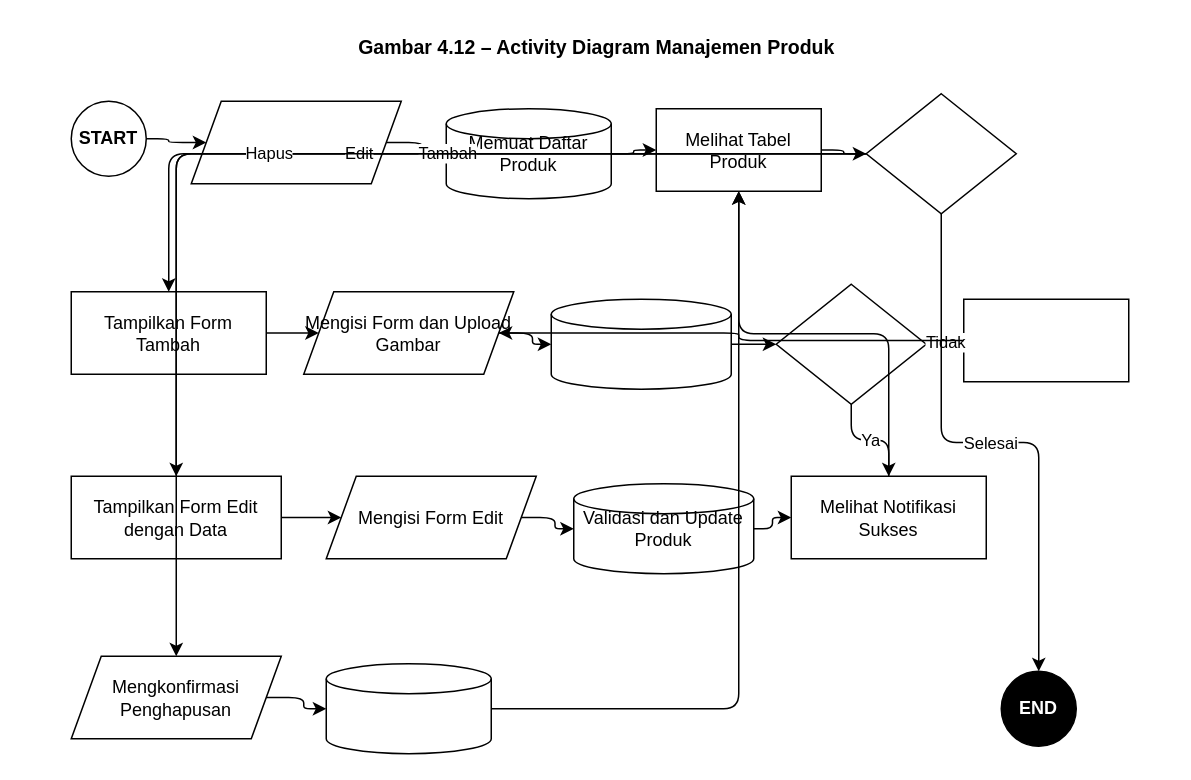
Some shapes in this 1191 by 780 pixel diagram are drawn without their labels. Each missing label, with the box of its shape:
Data Valid?: (775, 283, 926, 404)
Melihat Pesan Error: (962, 298, 1129, 382)
Membuka Halaman Produk: (190, 100, 401, 184)
Menghapus Produk: (325, 662, 491, 754)
Pilih Aksi?: (865, 92, 1016, 214)
Validasi dan Simpan Produk: (550, 298, 731, 389)
